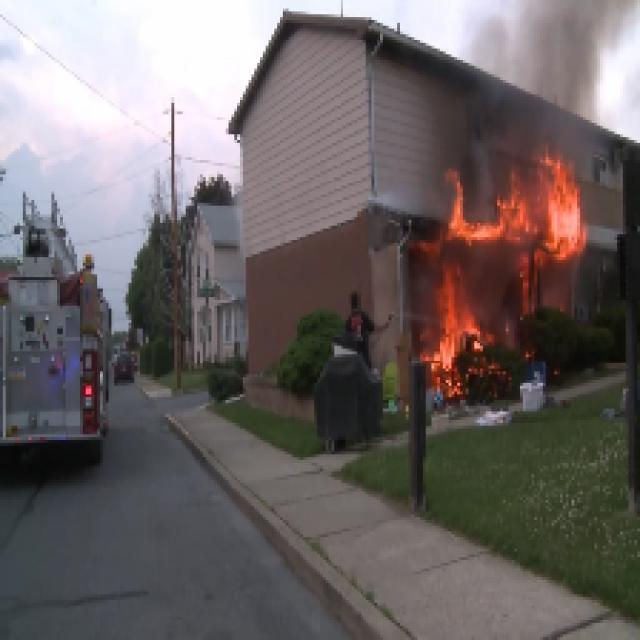fire: (436, 172, 586, 255), (437, 259, 464, 349)
